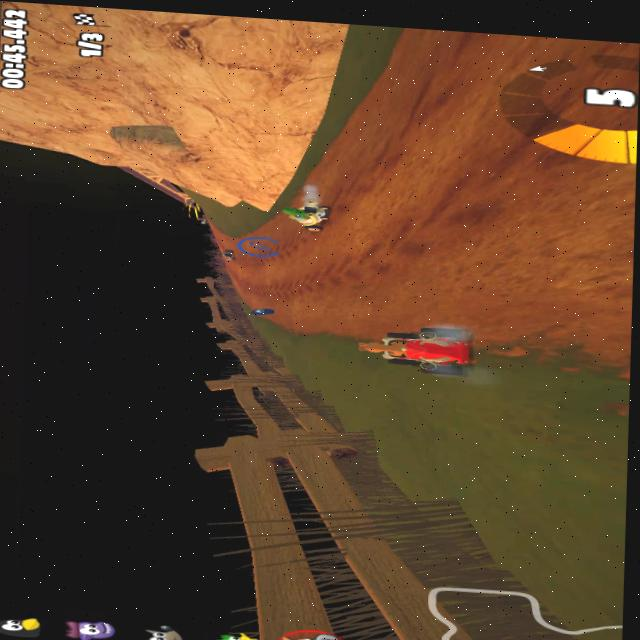enemy_kart: (283, 198, 338, 233), (215, 247, 237, 260)
nitro: (249, 302, 270, 314)
track: (486, 154, 636, 360), (417, 33, 489, 326), (285, 235, 409, 334), (348, 76, 415, 238), (231, 259, 279, 298), (212, 219, 214, 239)
